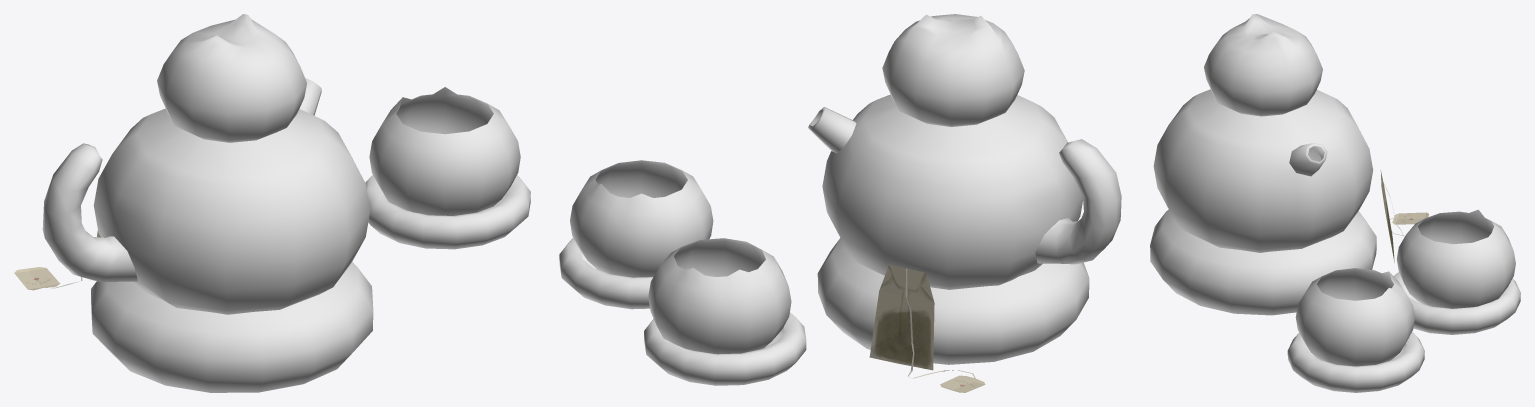
The model's file is tea set.fbx.
The picture shows the model from 3 angles, left to right: view 1: azimuth 30°, elevation 25°; view 2: azimuth 150°, elevation 25°; view 3: azimuth 270°, elevation 25°; orthographic projection. The views are drawn at different scales.
Visible parts, largest first — view 1: kettle, bowl, teacups.001, teacups, tea bag; view 2: kettle, bowl, teacups.002, teacups.001, teacups, tea bag; view 3: kettle, bowl, teacups.001, teacups.002, teacups, tea bag.
Boxes of the visible parts, <box> form: kettle: <box>42,14,370,314</box>; bowl: <box>91,262,373,392</box>; teacups.001: <box>369,87,520,215</box>; teacups: <box>365,175,530,249</box>; tea bag: <box>14,230,100,290</box>; kettle: <box>808,14,1121,289</box>; bowl: <box>817,238,1089,364</box>; teacups.002: <box>648,238,791,354</box>; teacups.001: <box>570,160,713,277</box>; teacups: <box>559,238,806,385</box>; tea bag: <box>869,264,985,392</box>; kettle: <box>1153,14,1373,252</box>; bowl: <box>1150,209,1376,315</box>; teacups.001: <box>1295,268,1414,366</box>; teacups.002: <box>1396,209,1515,308</box>; teacups: <box>1287,272,1520,392</box>; tea bag: <box>1380,170,1428,262</box>.
Bounding box in the file's own units: 2.21 × 1.7 × 1.32.
Materials: 4 (1 with a texture image).
